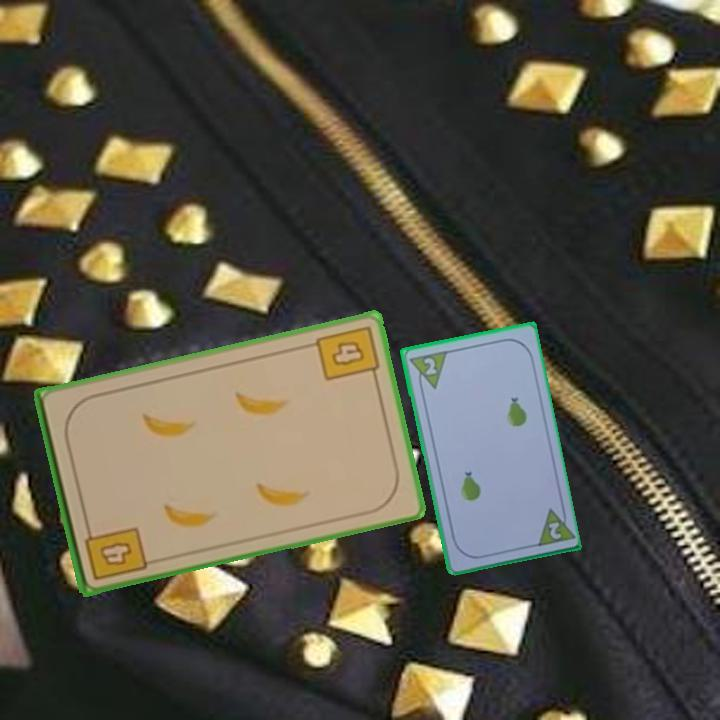2p: (405, 347, 450, 394), (544, 518, 564, 542)
4b: (80, 519, 149, 583), (312, 322, 382, 384)
